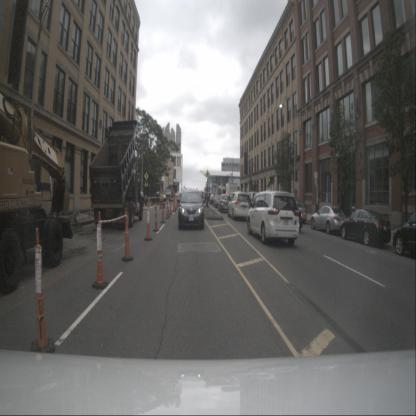cone: (31, 227, 55, 355), (92, 211, 108, 288), (122, 208, 133, 261), (144, 200, 153, 240), (154, 200, 160, 232), (160, 199, 166, 223), (165, 200, 170, 218), (169, 199, 173, 215), (172, 197, 176, 212), (168, 199, 170, 217)
